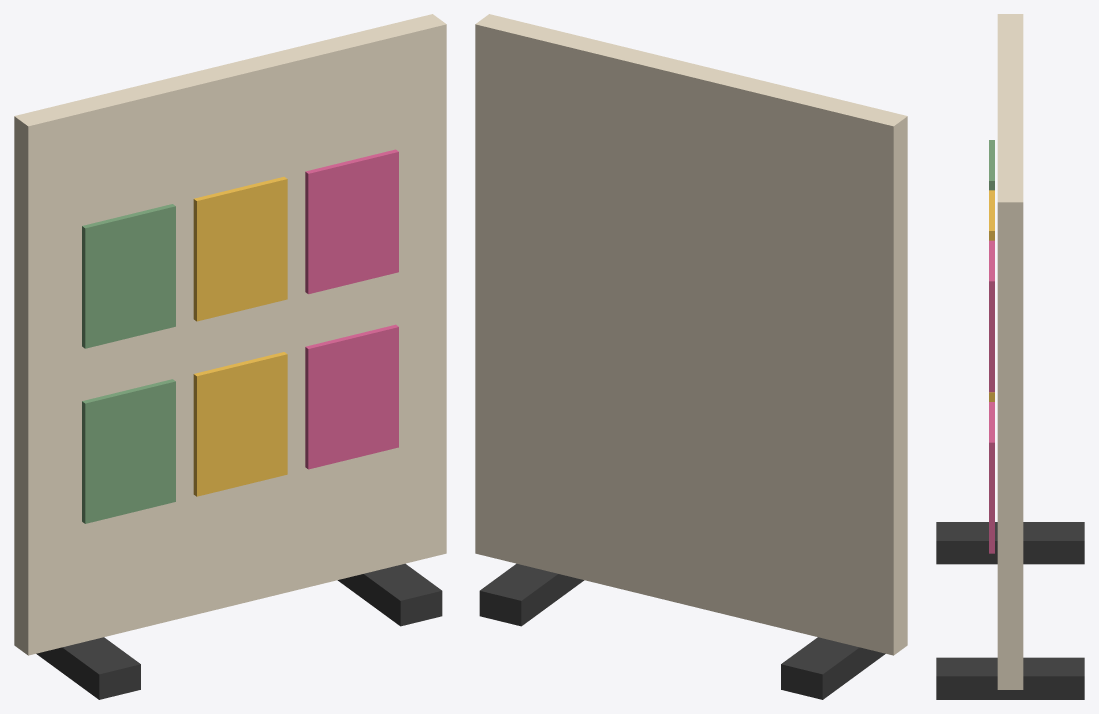
3 views of the same model, side by side, from view 1: azimuth 30°, elevation 25°; view 2: azimuth 150°, elevation 25°; view 3: azimuth 270°, elevation 25° (orthographic). The views are drawn at different scales.
Visible parts, largest first — view 1: Panel, labwall panel insert.001, labwall panel insert.004, labwall panel insert.002, labwall panel insert, labwall panel insert.003, labwall panel insert.005, Panel foot.001, Panel foot; view 2: Panel, Panel foot.001, Panel foot; view 3: Panel, Panel foot.001, Panel foot, labwall panel insert.005, labwall panel insert.002, labwall panel insert.003, labwall panel insert.004.
Part boxes in pixels (x1,y1,x2,y2): Panel: [14, 14, 446, 655]; labwall panel insert.001: [193, 352, 287, 496]; labwall panel insert.004: [193, 176, 287, 321]; labwall panel insert.002: [305, 324, 398, 469]; labwall panel insert: [82, 379, 175, 523]; labwall panel insert.003: [82, 204, 175, 348]; labwall panel insert.005: [305, 149, 398, 294]; Panel foot.001: [337, 563, 442, 626]; Panel foot: [36, 637, 140, 699]; Panel: [475, 14, 907, 655]; Panel foot.001: [479, 563, 584, 626]; Panel foot: [781, 637, 885, 699]; Panel: [997, 14, 1023, 689]; Panel foot.001: [936, 657, 1084, 699]; Panel foot: [936, 522, 1084, 564]; labwall panel insert.005: [989, 240, 994, 392]; labwall panel insert.002: [989, 402, 994, 553]; labwall panel insert.003: [989, 140, 994, 190]; labwall panel insert.004: [989, 190, 994, 240].
Size of the model in its own units: 1.2 by 1.53 by 0.4.
1 material, 1 textured.
